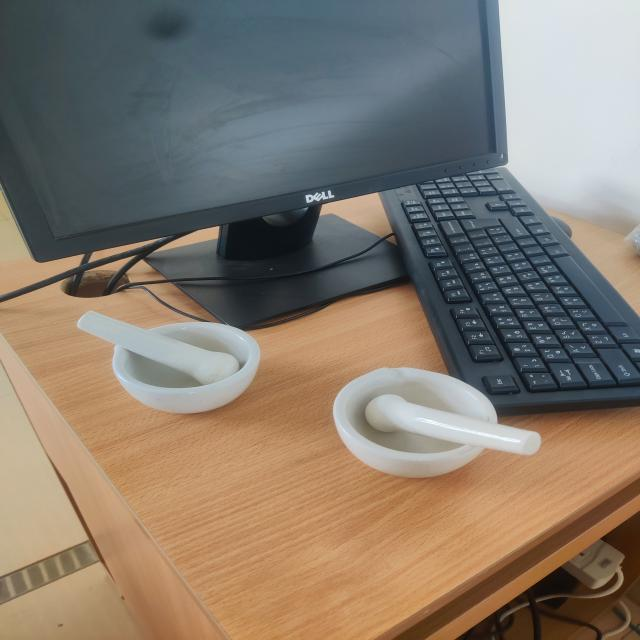Porcelain_Mortar Pestle: (316, 338, 557, 511), (39, 285, 275, 423)
